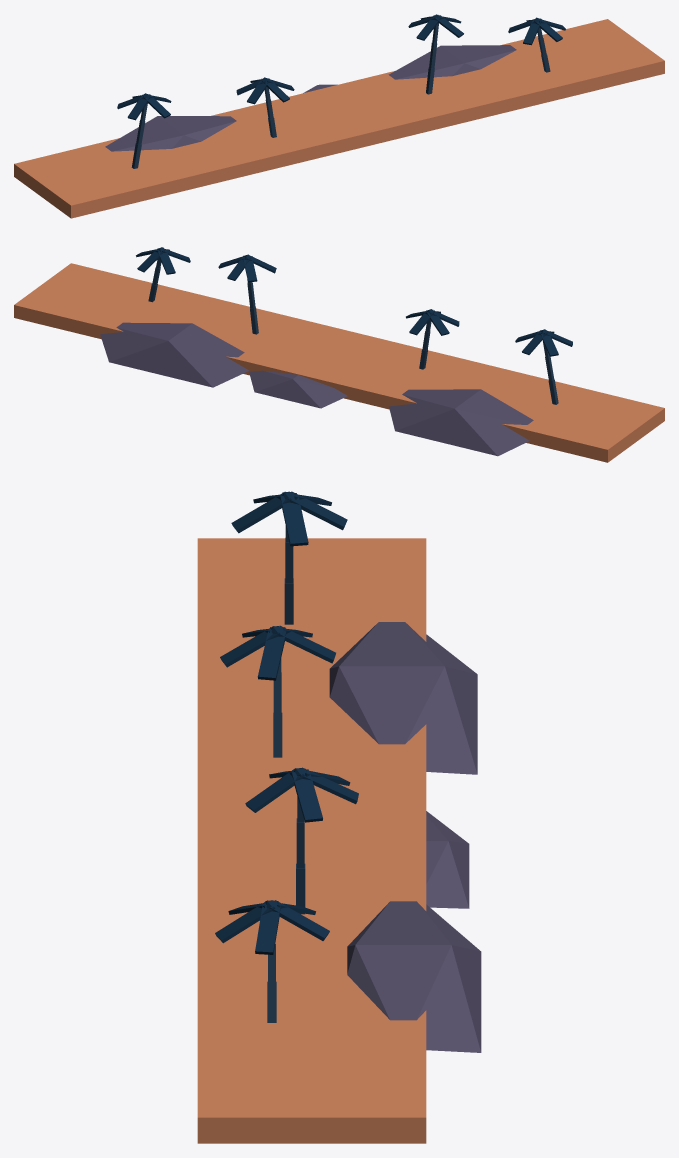
The model's file is shore.glb.
3 renders of one model, top to bottom at view 1: azimuth 30°, elevation 25°; view 2: azimuth 150°, elevation 25°; view 3: azimuth 270°, elevation 25°, orthographic. The views are drawn at different scales.
Visible parts, largest first — view 1: Beach; view 2: Beach; view 3: Beach.
Boxes of the visible parts, x1,y1,x2,y2 form: Beach: [14, 14, 664, 218]; Beach: [14, 247, 664, 462]; Beach: [197, 491, 481, 1143].
Size of the model in its own units: 24 by 3.74 by 4.96.
